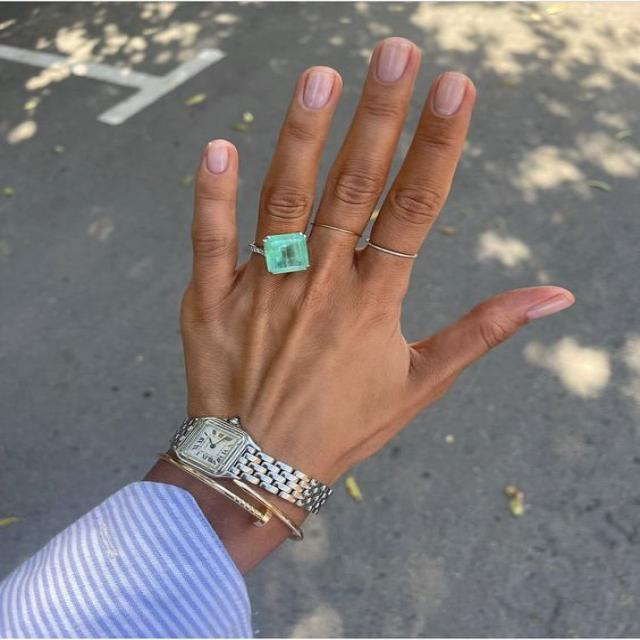Fingernail: (377, 38, 411, 83), (434, 73, 467, 115), (302, 70, 334, 110), (527, 295, 571, 320), (206, 142, 229, 174)
